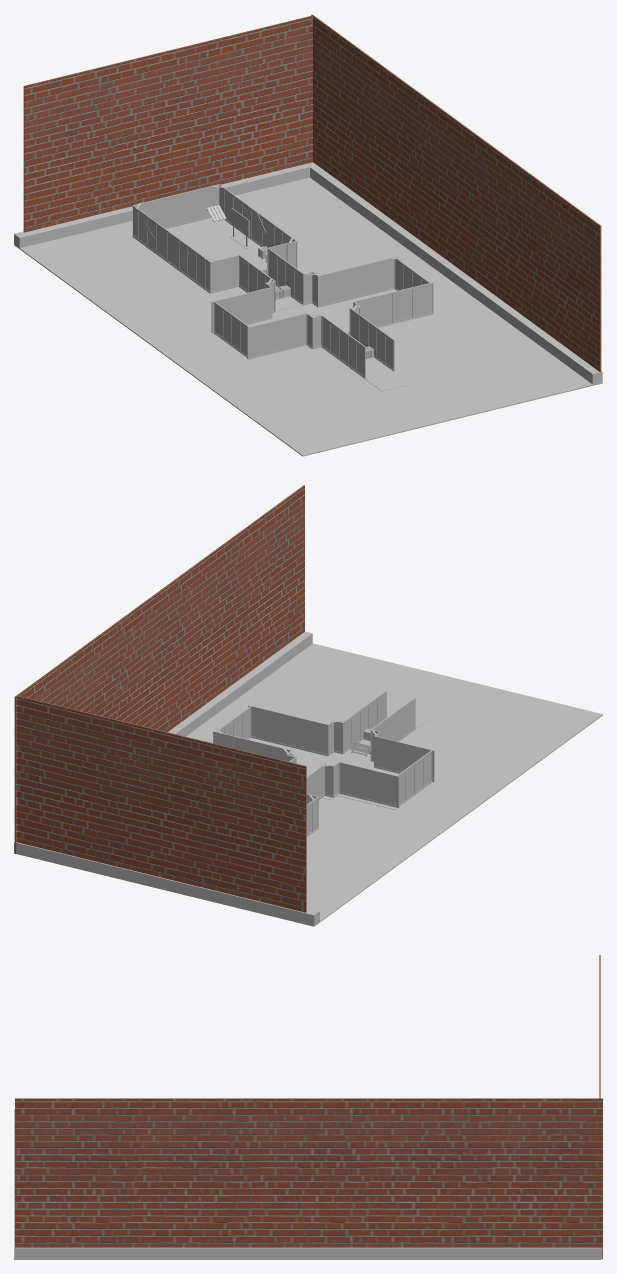
File: Level 2.fbx
The picture shows the model from 3 angles, top to bottom: view 1: azimuth 30°, elevation 25°; view 2: azimuth 150°, elevation 25°; view 3: azimuth 270°, elevation 25°; orthographic projection.
Parts seen in each view (by area): view 1: lantai gede, tembok bata, tembok bata.001, beton bawah bata.001, beton bawah bata, lantai 20 x 10.5m, dinding 2m.006, lantain 20x20m, dinding 2m.010, dinding 2m.011, dinding 2m.005, dinding 2m.008 (+11 smaller); view 2: tembok bata.001, lantai gede, tembok bata, beton bawah bata, beton bawah bata.001, dinding 2m.010, dinding 2m.008, lantain 20x20m, dinding 2m.011, dinding 1.5m.009, dinding 1.5m.007, dinding 1.5m.008 (+2 smaller); view 3: tembok bata, beton bawah bata.001, lantai gede.
Part boxes in pixels (<box>): lantai gede: <box>14,177,602,456</box>; tembok bata: <box>311,14,601,372</box>; tembok bata.001: <box>23,15,313,232</box>; beton bawah bata.001: <box>306,162,602,384</box>; beton bawah bata: <box>14,164,309,247</box>; lantai 20 x 10.5m: <box>136,218,299,309</box>; dinding 2m.006: <box>317,256,397,307</box>; lantain 20x20m: <box>211,289,430,391</box>; dinding 2m.010: <box>353,282,433,327</box>; dinding 2m.011: <box>247,313,307,359</box>; dinding 2m.005: <box>142,186,209,228</box>; dinding 2m.008: <box>211,287,272,333</box>; tembok bata.001: <box>16,695,306,912</box>; lantai gede: <box>14,643,602,926</box>; tembok bata: <box>14,485,304,853</box>; beton bawah bata: <box>24,844,319,925</box>; beton bawah bata.001: <box>14,631,312,854</box>; dinding 2m.010: <box>248,705,328,756</box>; dinding 2m.008: <box>339,761,399,807</box>; lantain 20x20m: <box>249,713,432,809</box>; dinding 2m.011: <box>374,736,434,782</box>; dinding 1.5m.009: <box>343,690,386,753</box>; dinding 1.5m.007: <box>397,750,432,805</box>; dinding 1.5m.008: <box>371,697,415,741</box>; tembok bata: <box>15,1098,602,1258</box>; beton bawah bata.001: <box>14,1243,602,1258</box>; lantai gede: <box>14,1109,601,1259</box>.
Bounding box in the file's own units: 3000 × 1510 × 5008.
